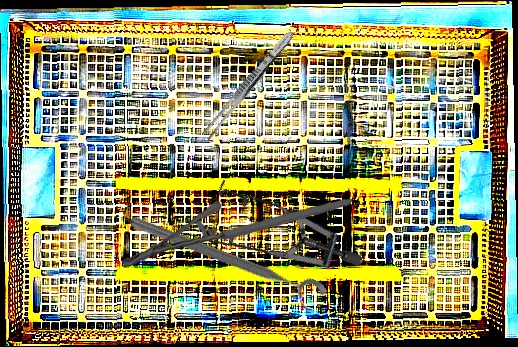Dressing Forceps: (200, 28, 297, 142)
Fixation Ring: (122, 210, 330, 317)
Needle Holder: (121, 183, 352, 284)
Speculum: (179, 143, 366, 335)
